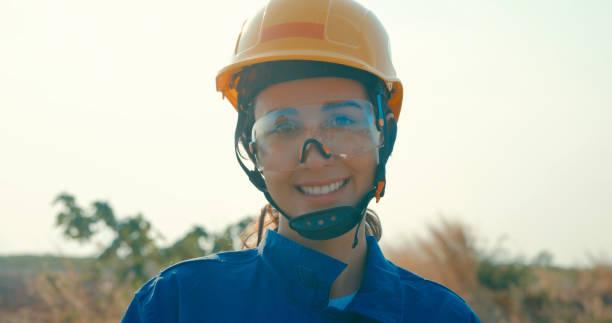goggle: (221, 94, 399, 193)
helmet: (195, 0, 418, 123)
vest: (118, 221, 488, 323)
